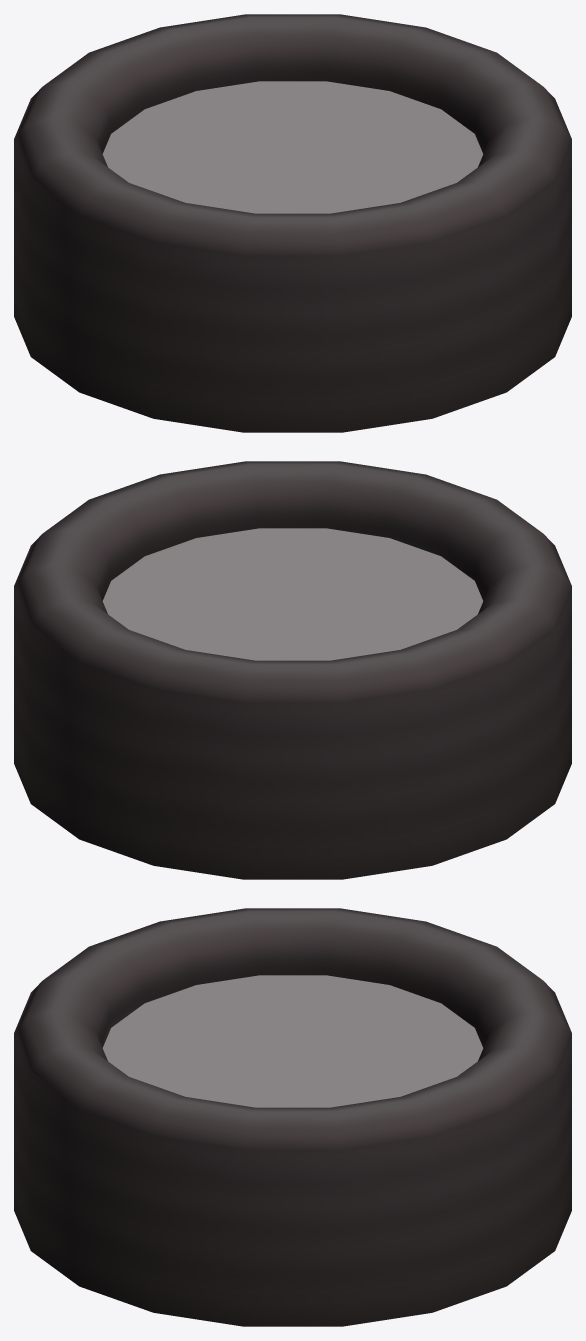
The model's file is model_Obstacle.fbx.
The picture shows the model from 3 angles, top to bottom: view 1: azimuth 30°, elevation 25°; view 2: azimuth 150°, elevation 25°; view 3: azimuth 270°, elevation 25°; orthographic projection.
Parts seen in each view (by area): view 1: model_Obstacle; view 2: model_Obstacle; view 3: model_Obstacle.
Part boxes in pixels (x1=…): model_Obstacle: x1=14, y1=14, x2=571, y2=432; model_Obstacle: x1=14, y1=461, x2=571, y2=879; model_Obstacle: x1=14, y1=908, x2=571, y2=1326.
Size of the model in its own units: 82.17 by 32.82 by 83.44.
